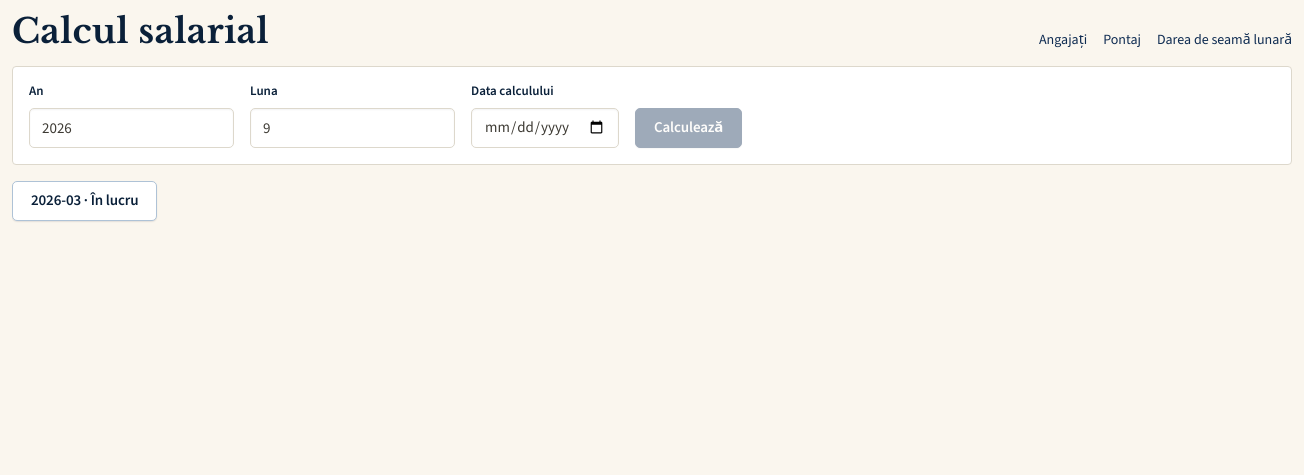
Test case: ecranele › calculul salarial arată motivul, nu un zero, pentru o sumă necalculată
Click the button "2026-03 · În lucru" at coordinates (85, 201), box [12,181,157,221]
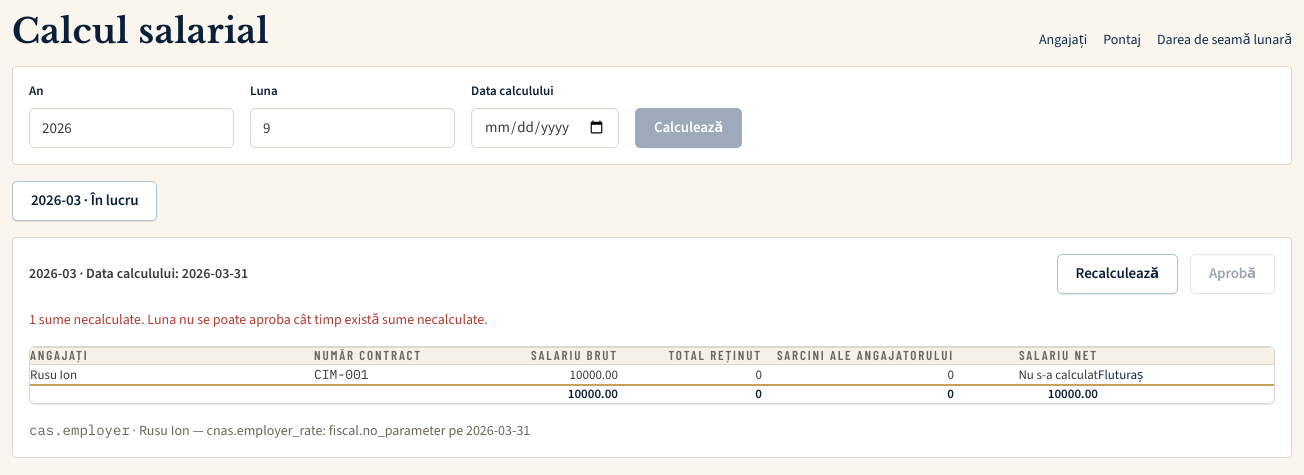
Result: the text "Rusu Ion" is shown at [30,364,314,385]
Result: the list item "cnas.employer_rate: fiscal.no_parameter pe 2026-03-31" is shown at [206,421,530,440]
Result: the button "Aprobă" is disabled at [1190,254,1275,294]
